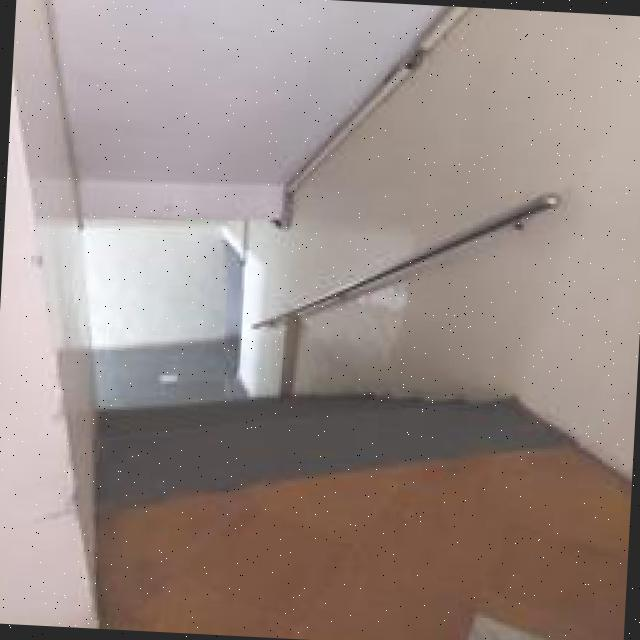stairs: (21, 218, 628, 472)
